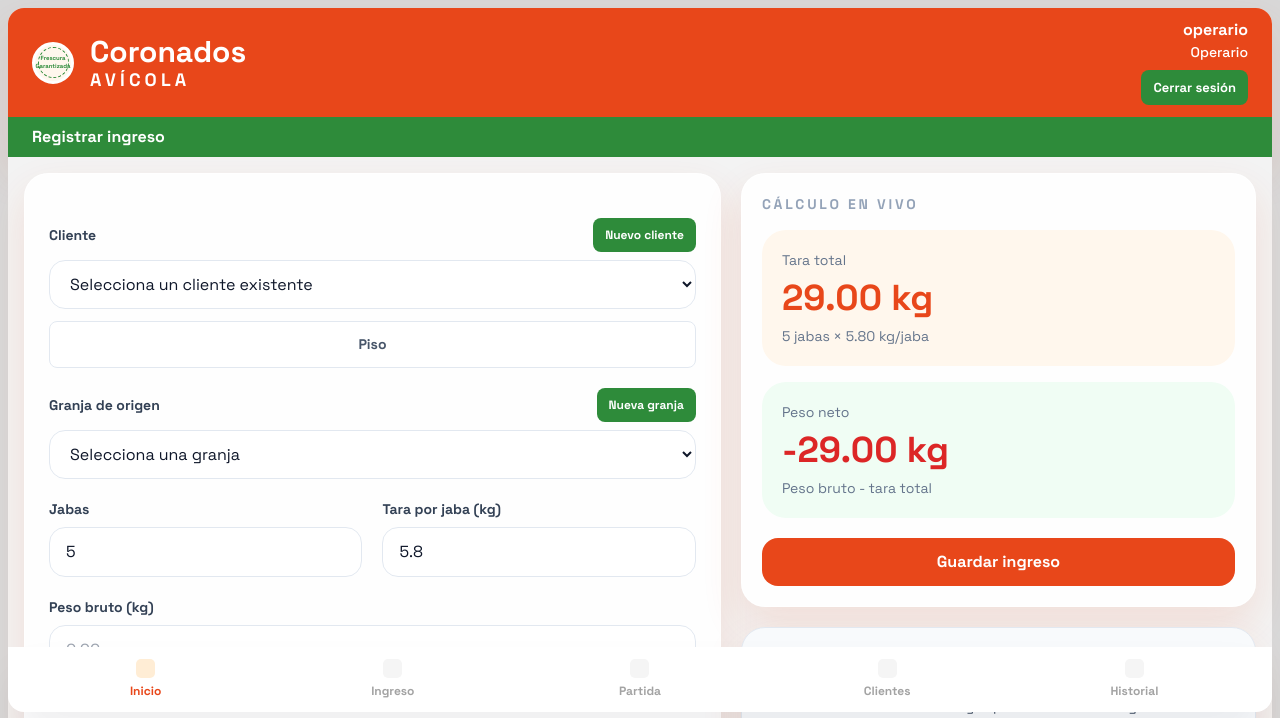
Test: RegistrarPesada › crea una granja desde ingreso y la selecciona
Expected: the dropdown labelled "Granja de origen" is shown, [49, 430, 696, 479]
Click the button "Nueva granja" at point(646, 405), box [596, 388, 696, 422]
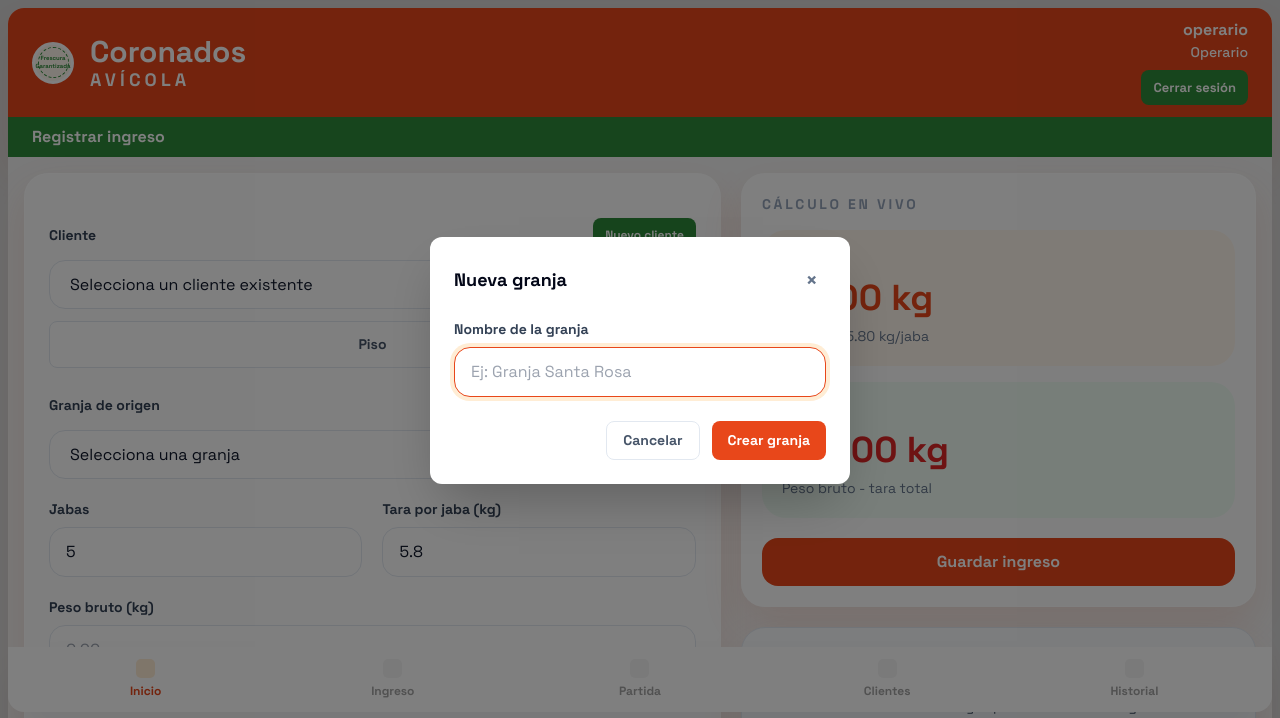
Type "Granja Nueva" into the field labelled "Nombre de la granja" at point(640, 372), box [454, 346, 826, 396]
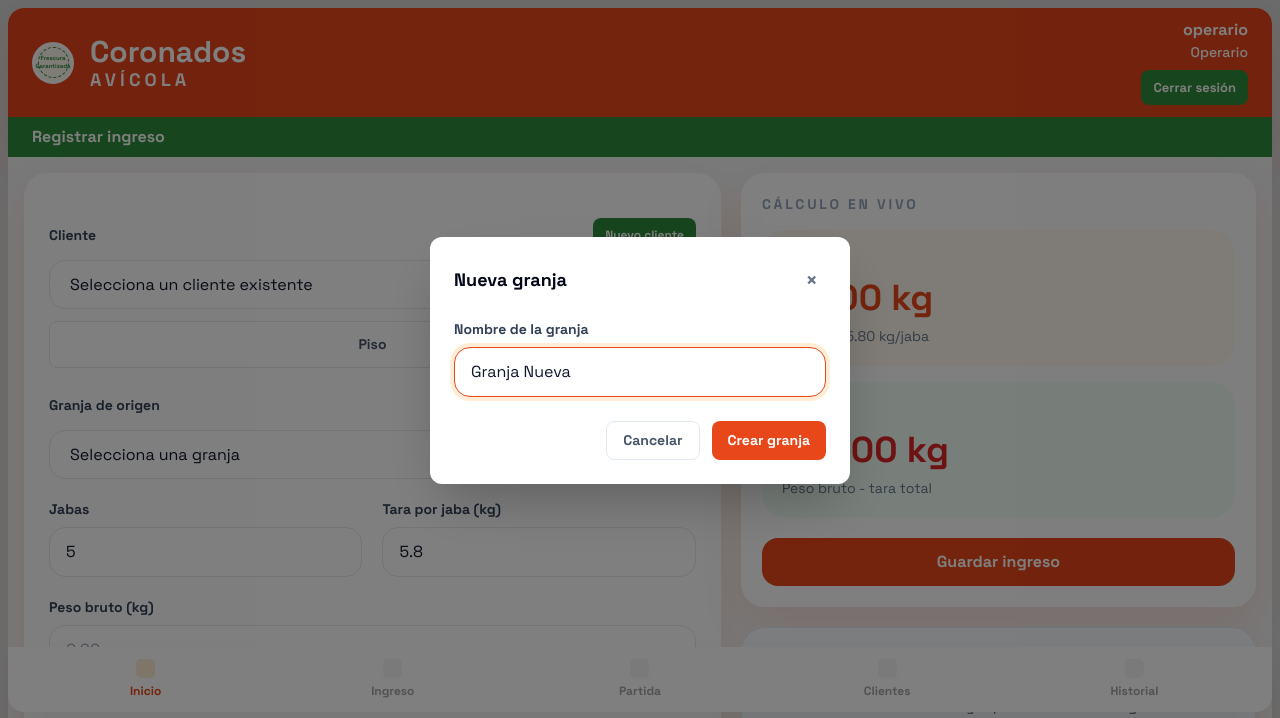
Click the button "Crear granja" at point(769, 440), box [712, 420, 826, 460]
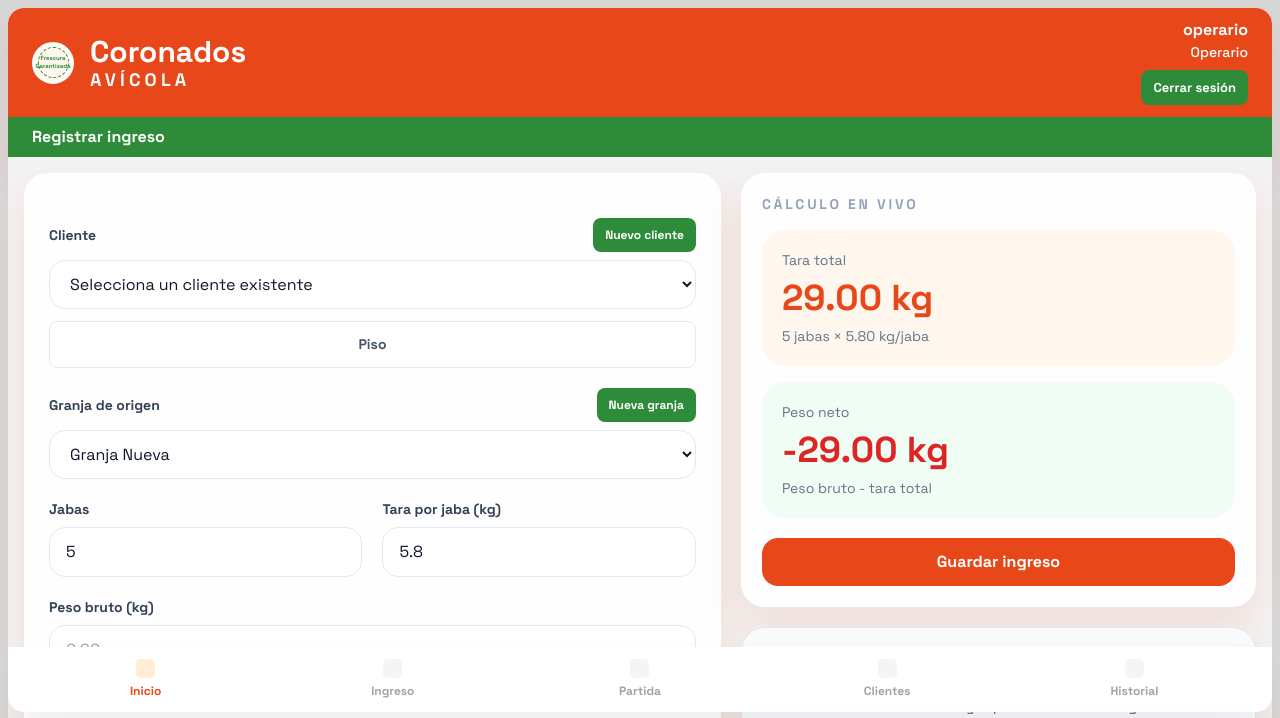
Now the dropdown labelled "Granja de origen" shows "Granja Nueva", box [49, 430, 696, 479]
